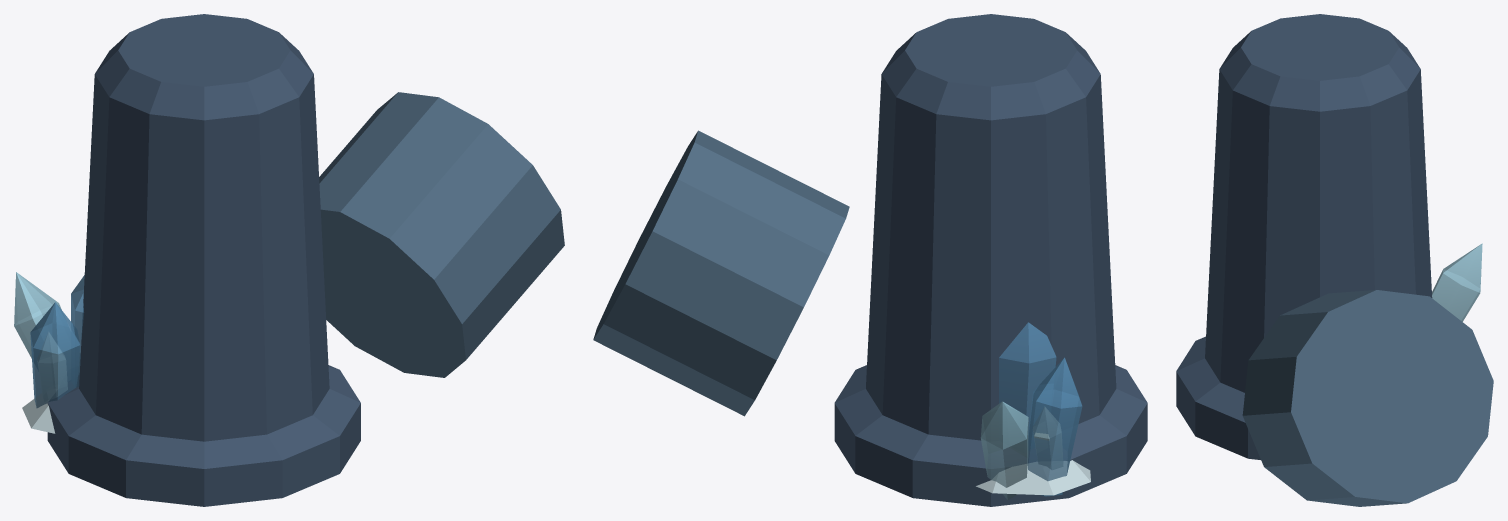
File: decor_2.fbx
The picture shows the model from 3 angles, left to right: view 1: azimuth 30°, elevation 25°; view 2: azimuth 150°, elevation 25°; view 3: azimuth 270°, elevation 25°; orthographic projection. The views are drawn at different scales.
Visible parts, largest first — view 1: decor_2; view 2: decor_2; view 3: decor_2.
Boxes of the visible parts, box(x1,y1,x2,y2) form: decor_2: box(14, 14, 564, 506); decor_2: box(593, 14, 1147, 506); decor_2: box(1176, 14, 1493, 506).
Size of the model in its own units: 2.19 by 1.66 by 1.32.
